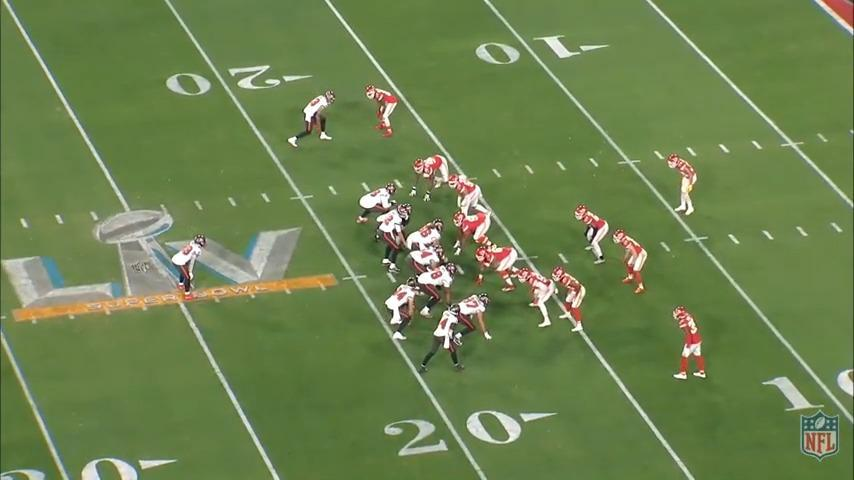defense: (521, 267, 567, 333), (551, 264, 589, 338), (670, 305, 706, 383), (471, 244, 525, 292), (617, 228, 653, 298), (573, 204, 612, 267), (363, 83, 401, 143), (668, 152, 701, 220), (408, 153, 455, 199), (451, 210, 496, 256), (450, 172, 484, 217)
oline: (418, 261, 462, 318), (358, 182, 401, 226), (370, 200, 416, 240), (404, 245, 441, 280), (407, 218, 445, 251)
qb: (376, 205, 412, 273)
skill: (421, 306, 470, 378), (285, 87, 336, 152), (171, 231, 210, 299), (383, 279, 420, 345), (449, 291, 494, 344)
